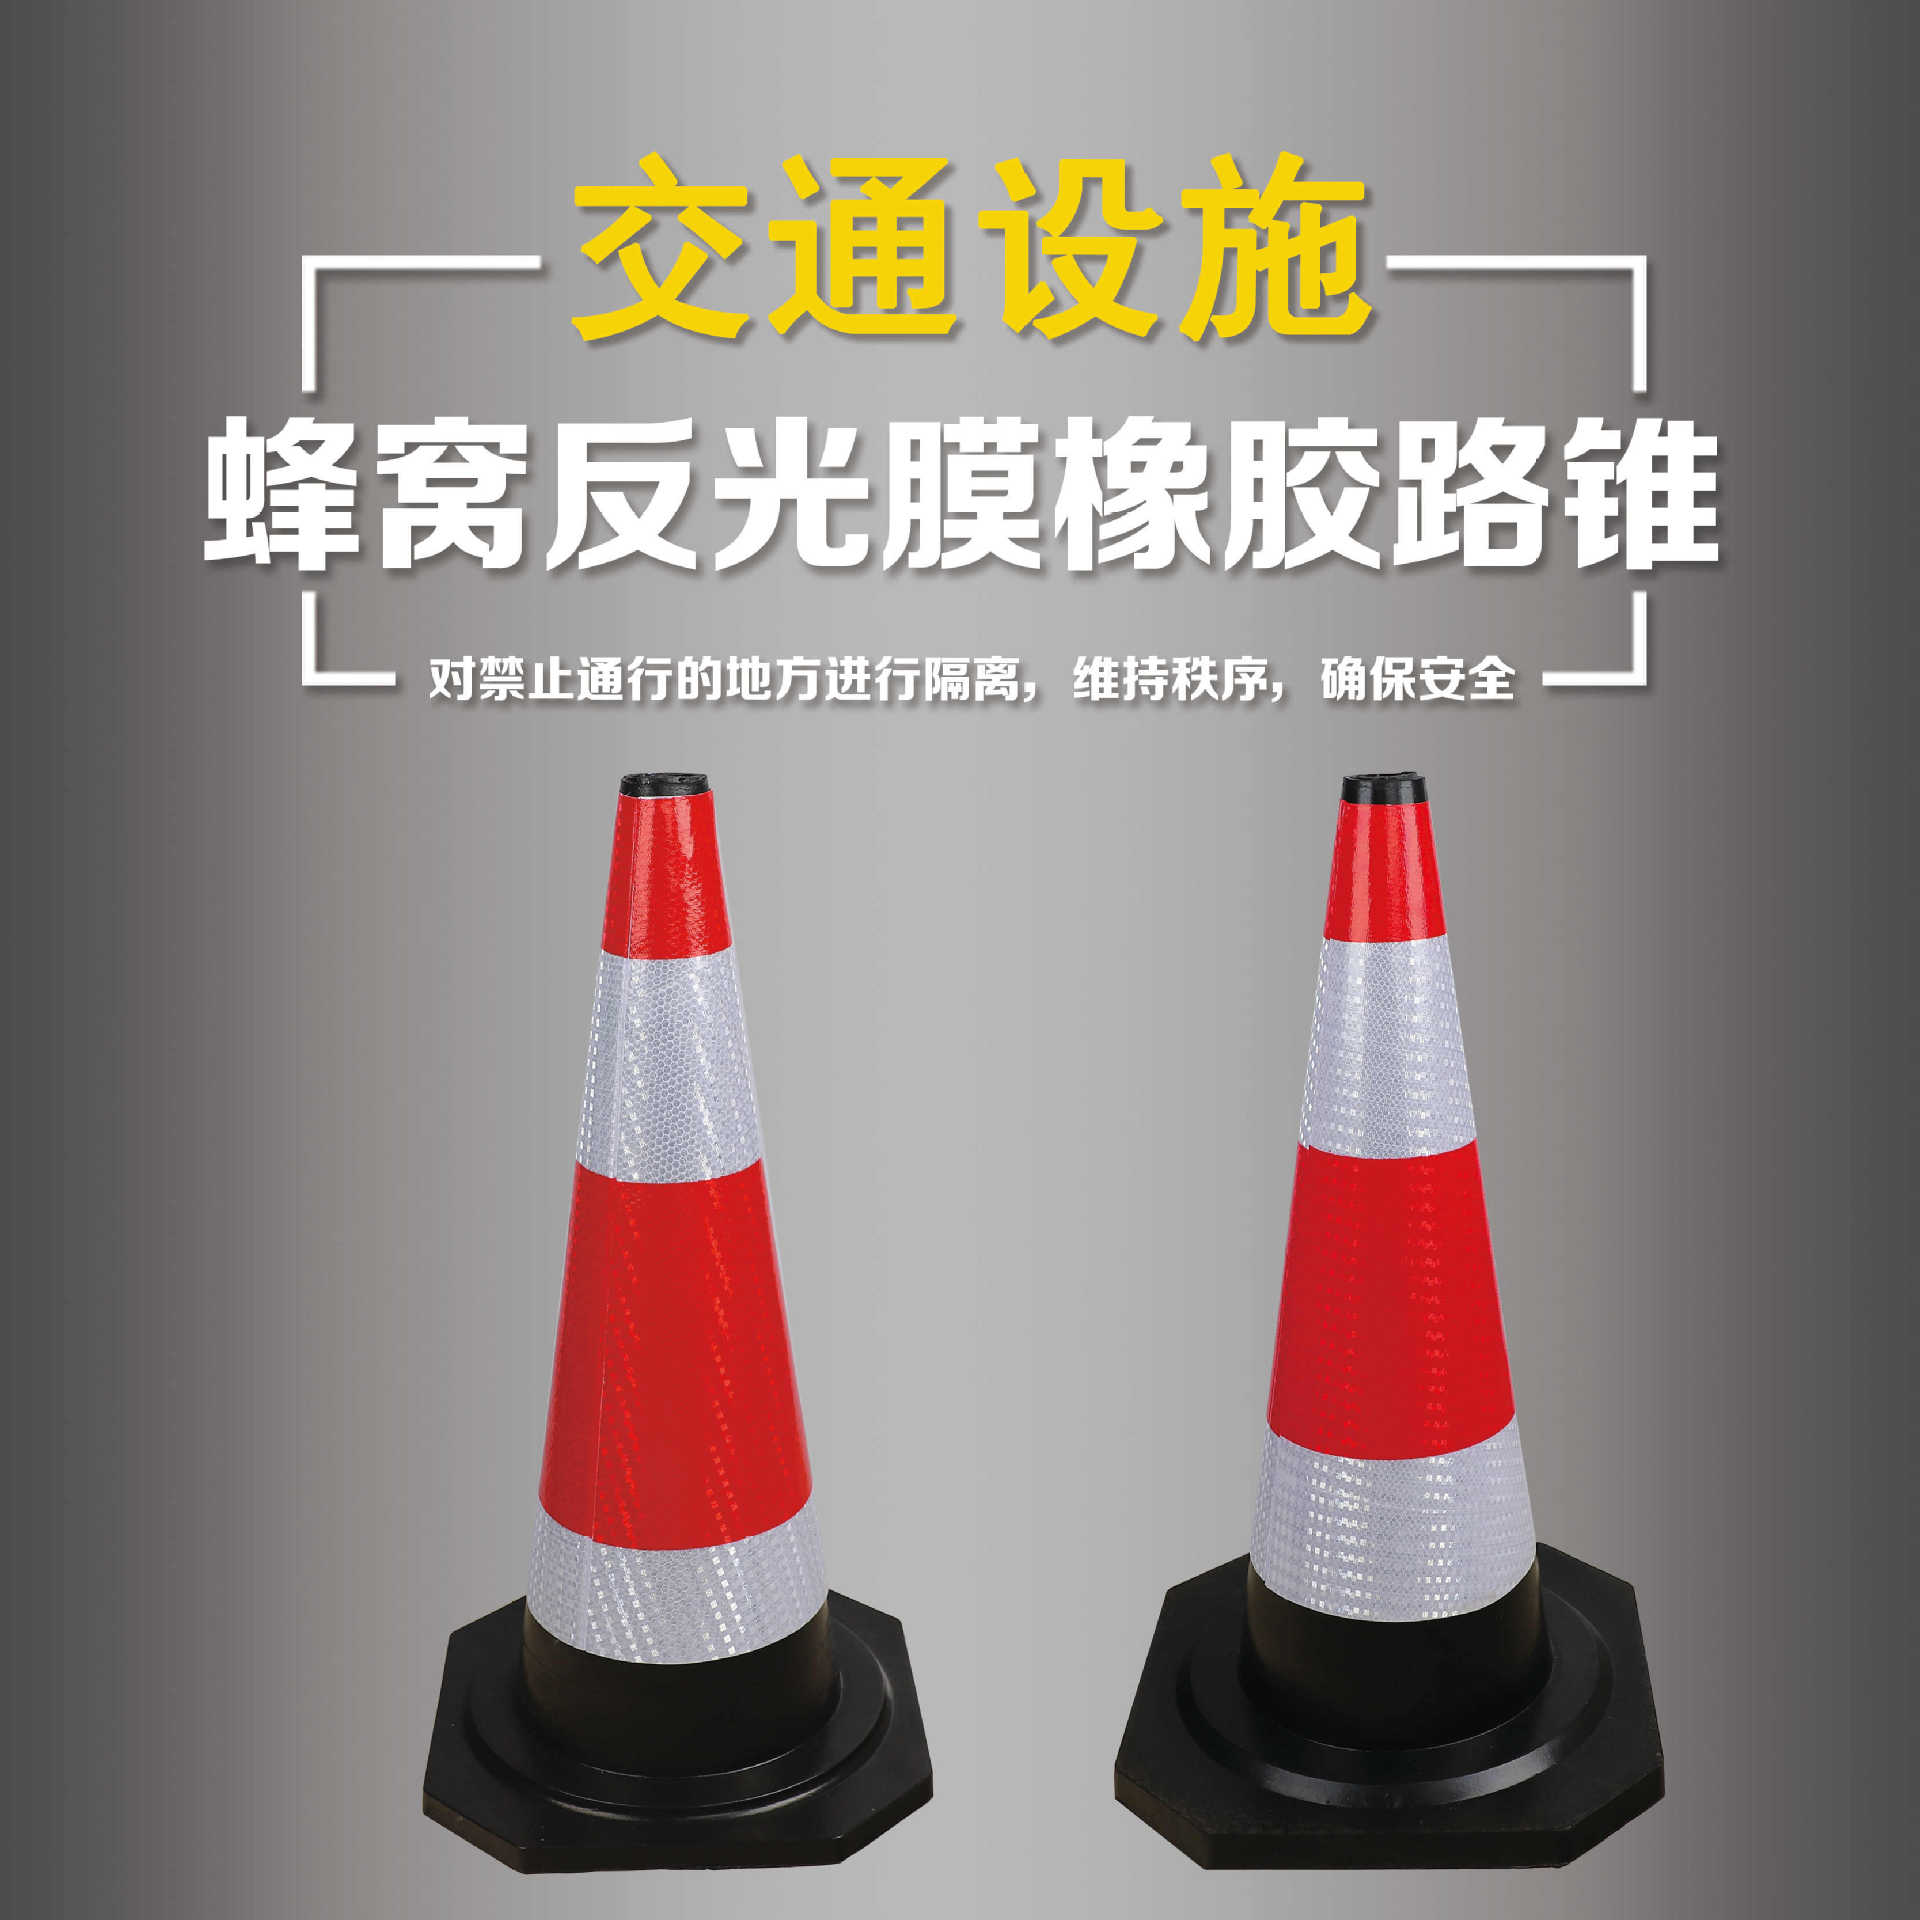traffic_cone: (1030, 754, 1730, 1894), (334, 753, 974, 1883)
